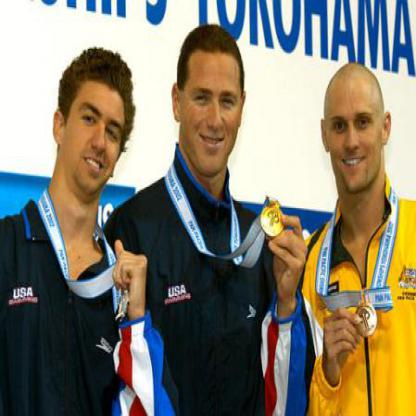face: (181, 28, 245, 176), (66, 57, 131, 196), (327, 64, 385, 193)
